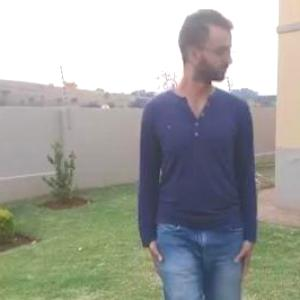follow: (141, 4, 261, 299)
